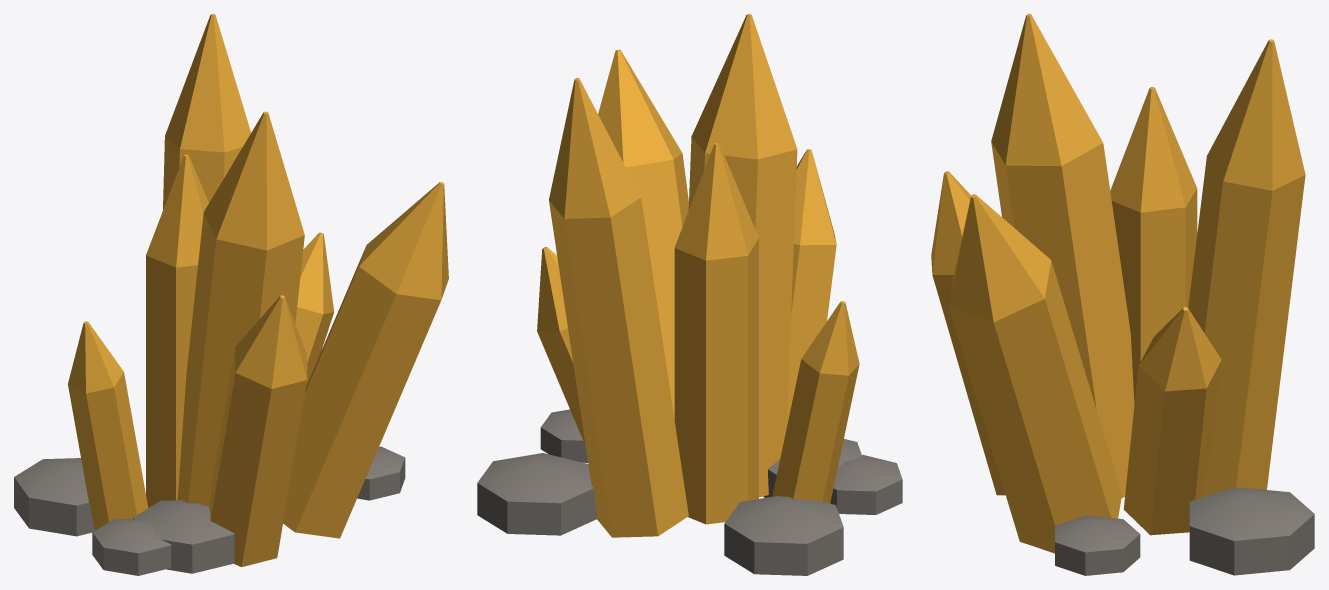
Rendered from crystal_amber_2.glb.
The picture shows the model from 3 angles, left to right: view 1: azimuth 30°, elevation 25°; view 2: azimuth 150°, elevation 25°; view 3: azimuth 270°, elevation 25°; orthographic projection. The views are drawn at different scales.
Parts seen in each view (by area): view 1: crystals; view 2: crystals; view 3: crystals.
Part boxes in pixels (box(x1,y1,x2,y2)): crystals: box(14, 14, 448, 575); crystals: box(477, 14, 902, 575); crystals: box(931, 14, 1314, 575).
Size of the model in its own units: 2.98 by 3.87 by 2.69.
